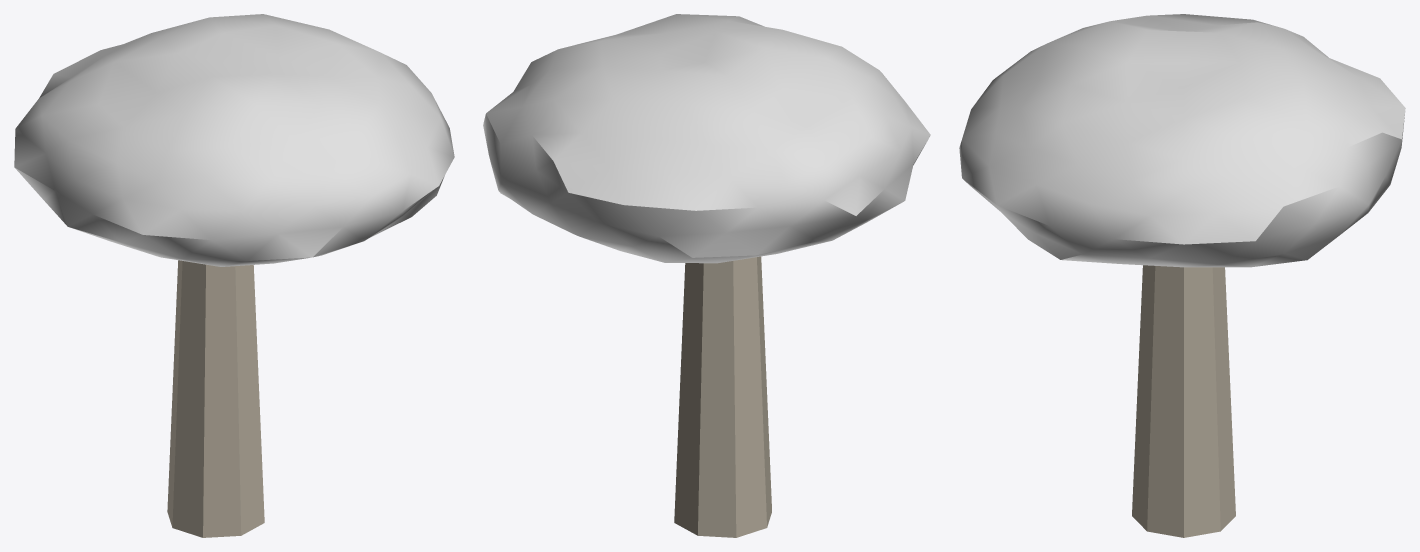
Rendered from mushroom_giant.glb.
3 renders of one model, left to right at view 1: azimuth 30°, elevation 25°; view 2: azimuth 150°, elevation 25°; view 3: azimuth 270°, elevation 25°, orthographic. The views are drawn at different scales.
Parts seen in each view (by area): view 1: mushroom_giant; view 2: mushroom_giant; view 3: mushroom_giant.
Part boxes in pixels (box(x1,y1,x2,y2)): mushroom_giant: box(14, 14, 454, 537); mushroom_giant: box(483, 14, 930, 537); mushroom_giant: box(959, 14, 1405, 537).
Size of the model in its own units: 6.05 by 7.03 by 6.
